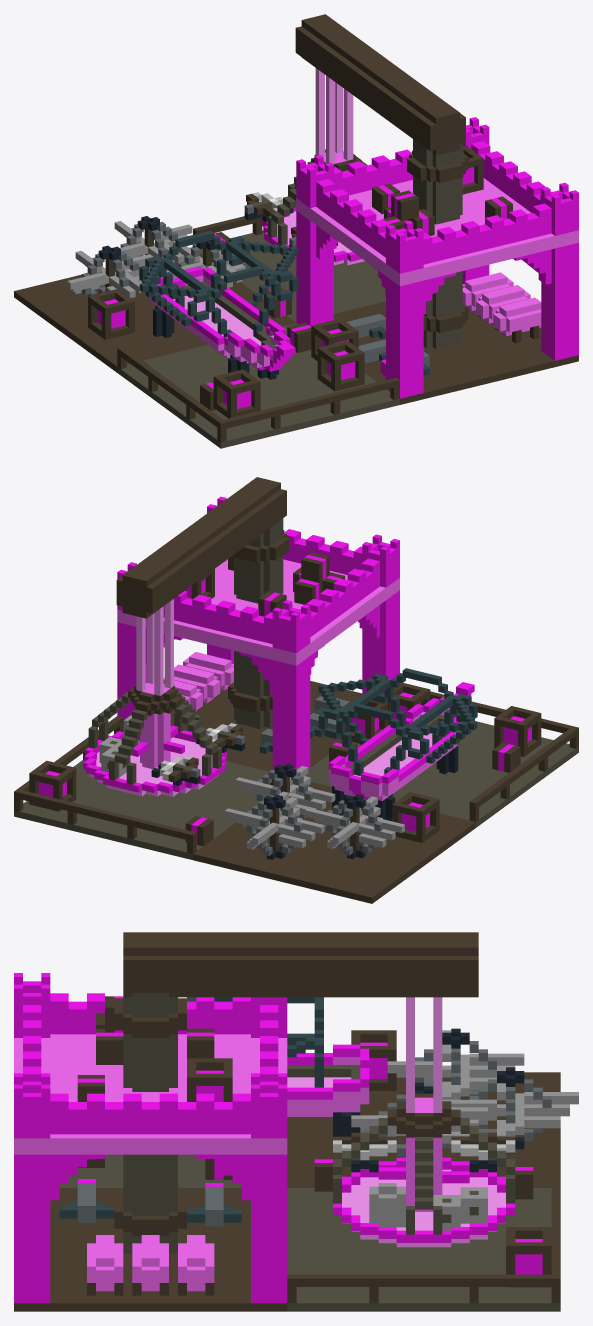
File: airfield.obj
3 views of the same model, one above another, from view 1: azimuth 30°, elevation 25°; view 2: azimuth 150°, elevation 25°; view 3: azimuth 270°, elevation 25° (orthographic). The views are drawn at different scales.
Size of the model in its own units: 6 by 3.8 by 6.2.
1 material, 1 textured.
